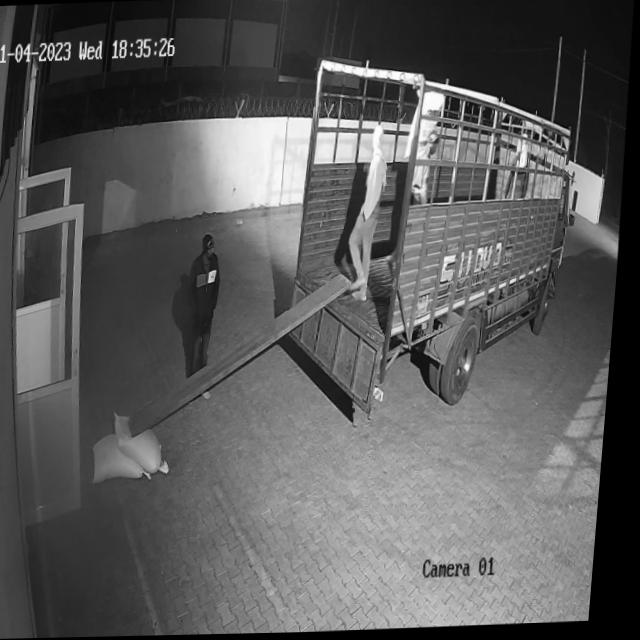sack: (114, 408, 180, 475), (96, 432, 163, 485), (403, 90, 450, 162)
